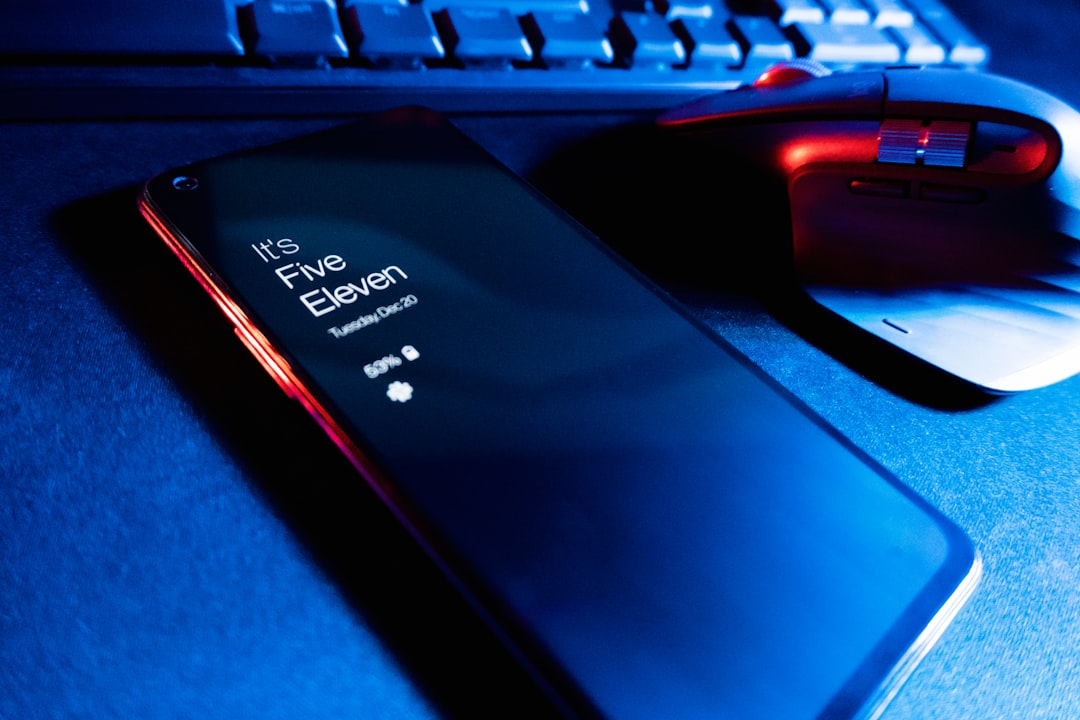phone: (131, 104, 986, 719)
